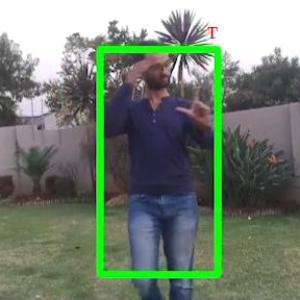land_hand: (170, 73, 215, 130)
